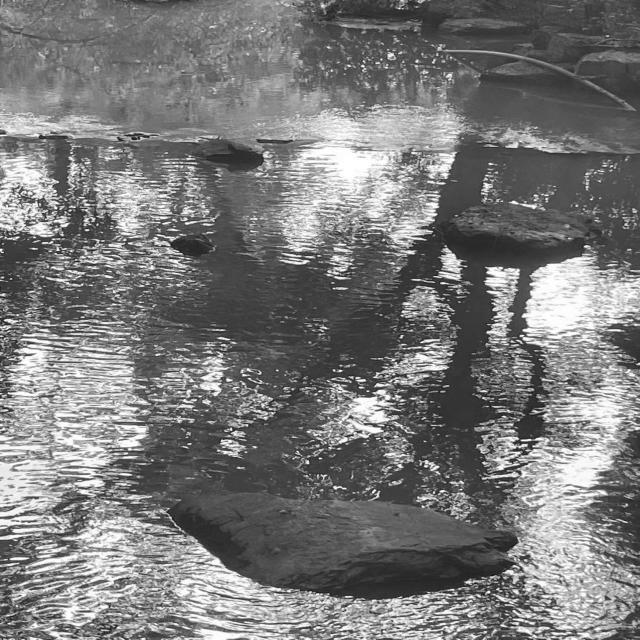Stone: (170, 492, 515, 597), (442, 204, 600, 267)
